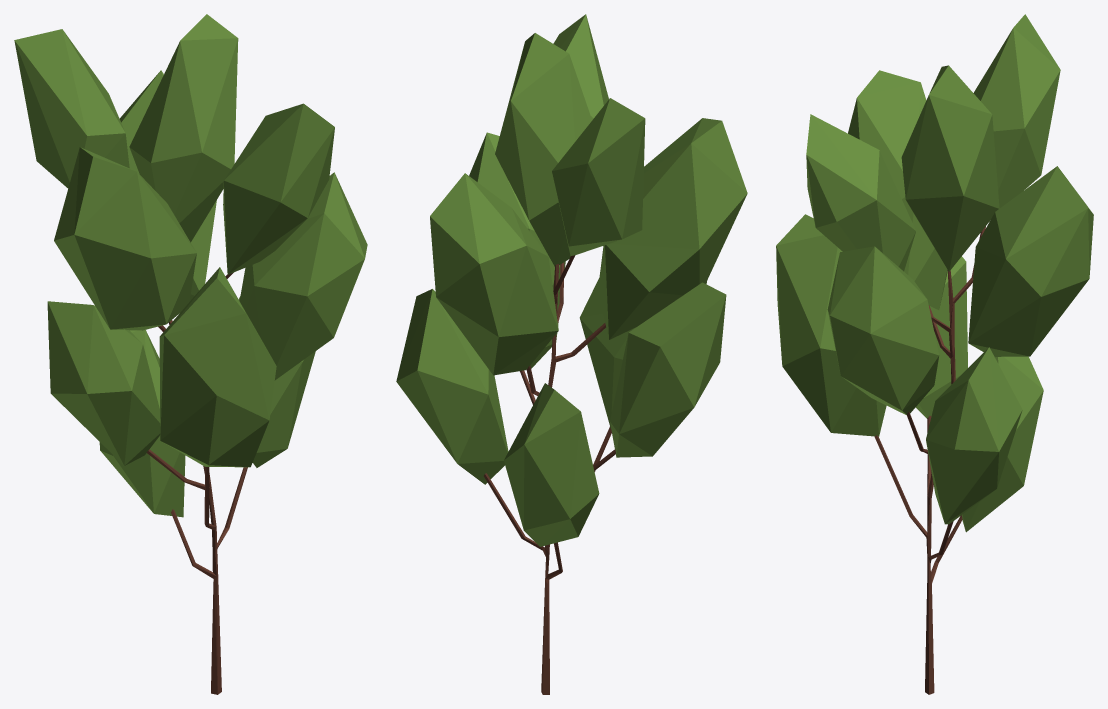
File: mountain_ash.fbx
3 views of the same model, side by side, from view 1: azimuth 30°, elevation 25°; view 2: azimuth 150°, elevation 25°; view 3: azimuth 270°, elevation 25° (orthographic). The views are drawn at different scales.
Visible parts, largest first — view 1: mountain_ash; view 2: mountain_ash; view 3: mountain_ash.
Part boxes in pixels (x1,y1,x2,y2): mountain_ash: [14, 14, 367, 694]; mountain_ash: [396, 14, 747, 694]; mountain_ash: [776, 14, 1093, 694].
Bounding box in the file's own units: 145 × 316 × 145.
